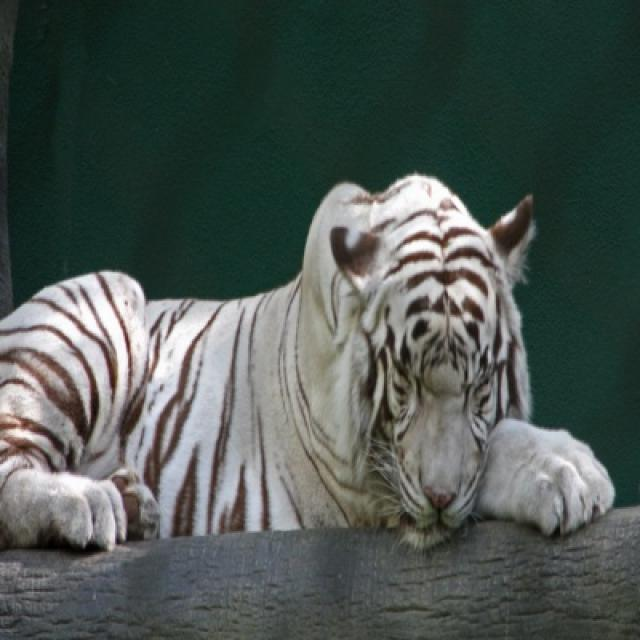Tiger: (0, 171, 613, 553)
